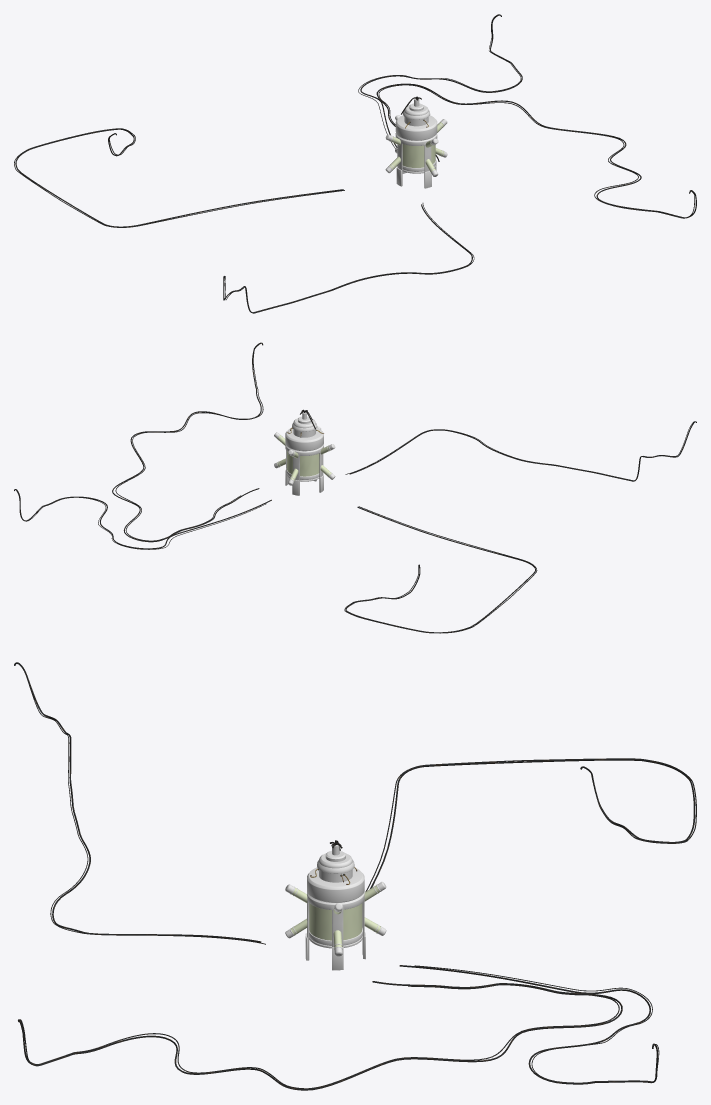
File: ExplodedReactor.fbx
3 views of the same model, one above another, from view 1: azimuth 30°, elevation 25°; view 2: azimuth 150°, elevation 25°; view 3: azimuth 270°, elevation 25° (orthographic). The views are drawn at different scales.
Visible parts, largest first — view 1: Wires, Top_part_1, Bottom_part, Top_part_2; view 2: Wires, Top_part_1, Bottom_part, Top_part_2; view 3: Wires, Top_part_1, Bottom_part, Top_part_2.
Boxes of the visible parts, x1,y1,x2,y2 form: Wires: (14,14,696,313); Top_part_1: (395,115,437,154); Bottom_part: (396,148,436,188); Top_part_2: (401,96,430,128); Wires: (14,342,696,633); Top_part_1: (285,427,323,464); Bottom_part: (284,455,324,495); Top_part_2: (287,409,323,437); Wires: (14,662,696,1090); Top_part_1: (305,867,368,924); Bottom_part: (303,908,367,970); Top_part_2: (310,840,357,884).
Bounding box in the file's own units: 5981 × 945 × 5021.
